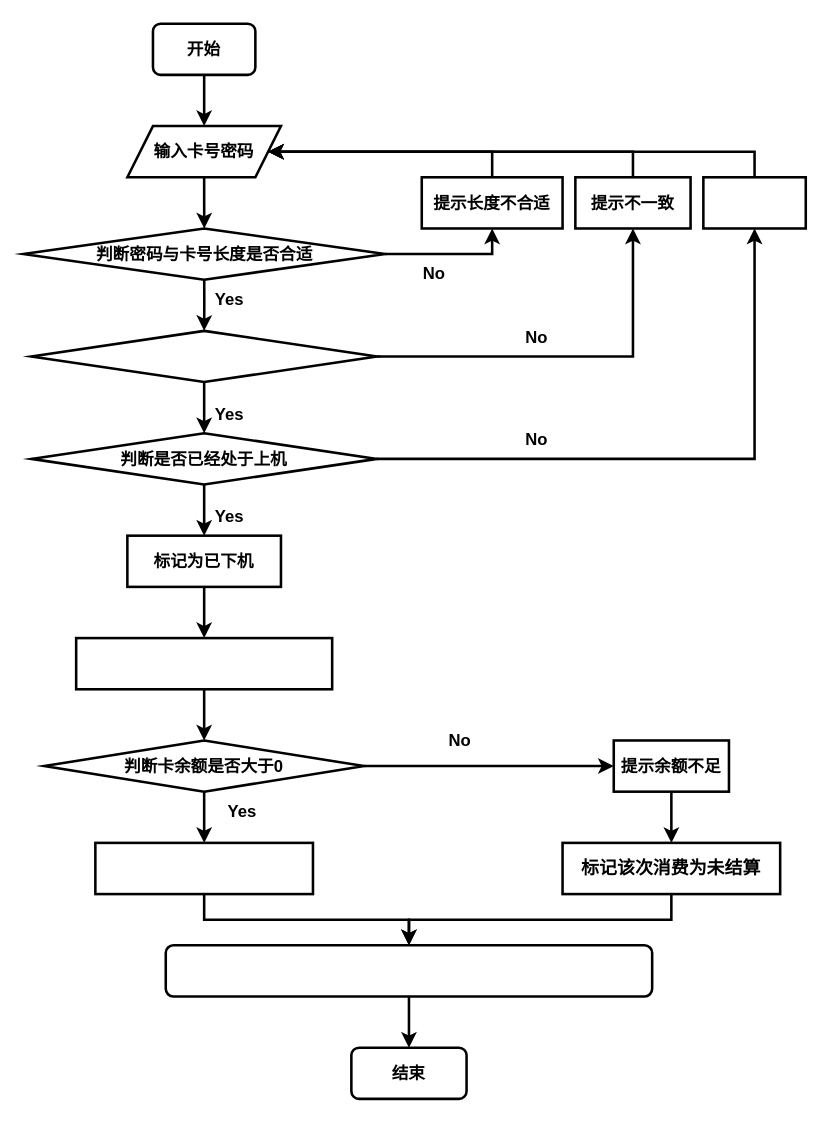
This 829x1121 diagram has some shape labels left out. The centre of each missing label's shape, as x and y in pixels:
判断密码与卡号是否一致: the point at 203,356
提示已上机: the point at 753,202
标记为已下机，并更新cardlist，记录该次消费进入Billinglist: the point at 408,970
标记该次消费为已结算: the point at 203,868
根据（下机时间-上机时间） * 单价扣除费用: the point at 203,663
